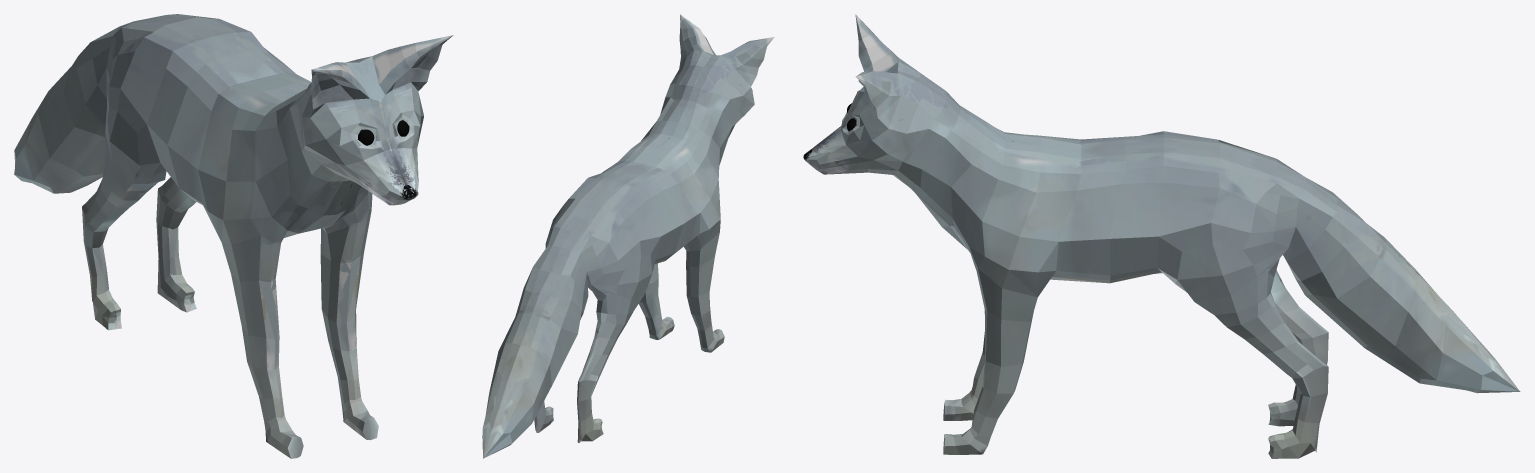
The model's file is winter_fox.fbx.
3 views of the same model, side by side, from view 1: azimuth 30°, elevation 25°; view 2: azimuth 150°, elevation 25°; view 3: azimuth 270°, elevation 25° (orthographic). The views are drawn at different scales.
Parts seen in each view (by area): view 1: Plane; view 2: Plane; view 3: Plane.
Boxes of the visible parts, x1,y1,x2,y2 form: Plane: (14, 14, 453, 458); Plane: (482, 14, 774, 458); Plane: (803, 14, 1520, 458).
Bounding box in the file's own units: 160 × 444 × 731.
2 materials, 1 textured.
